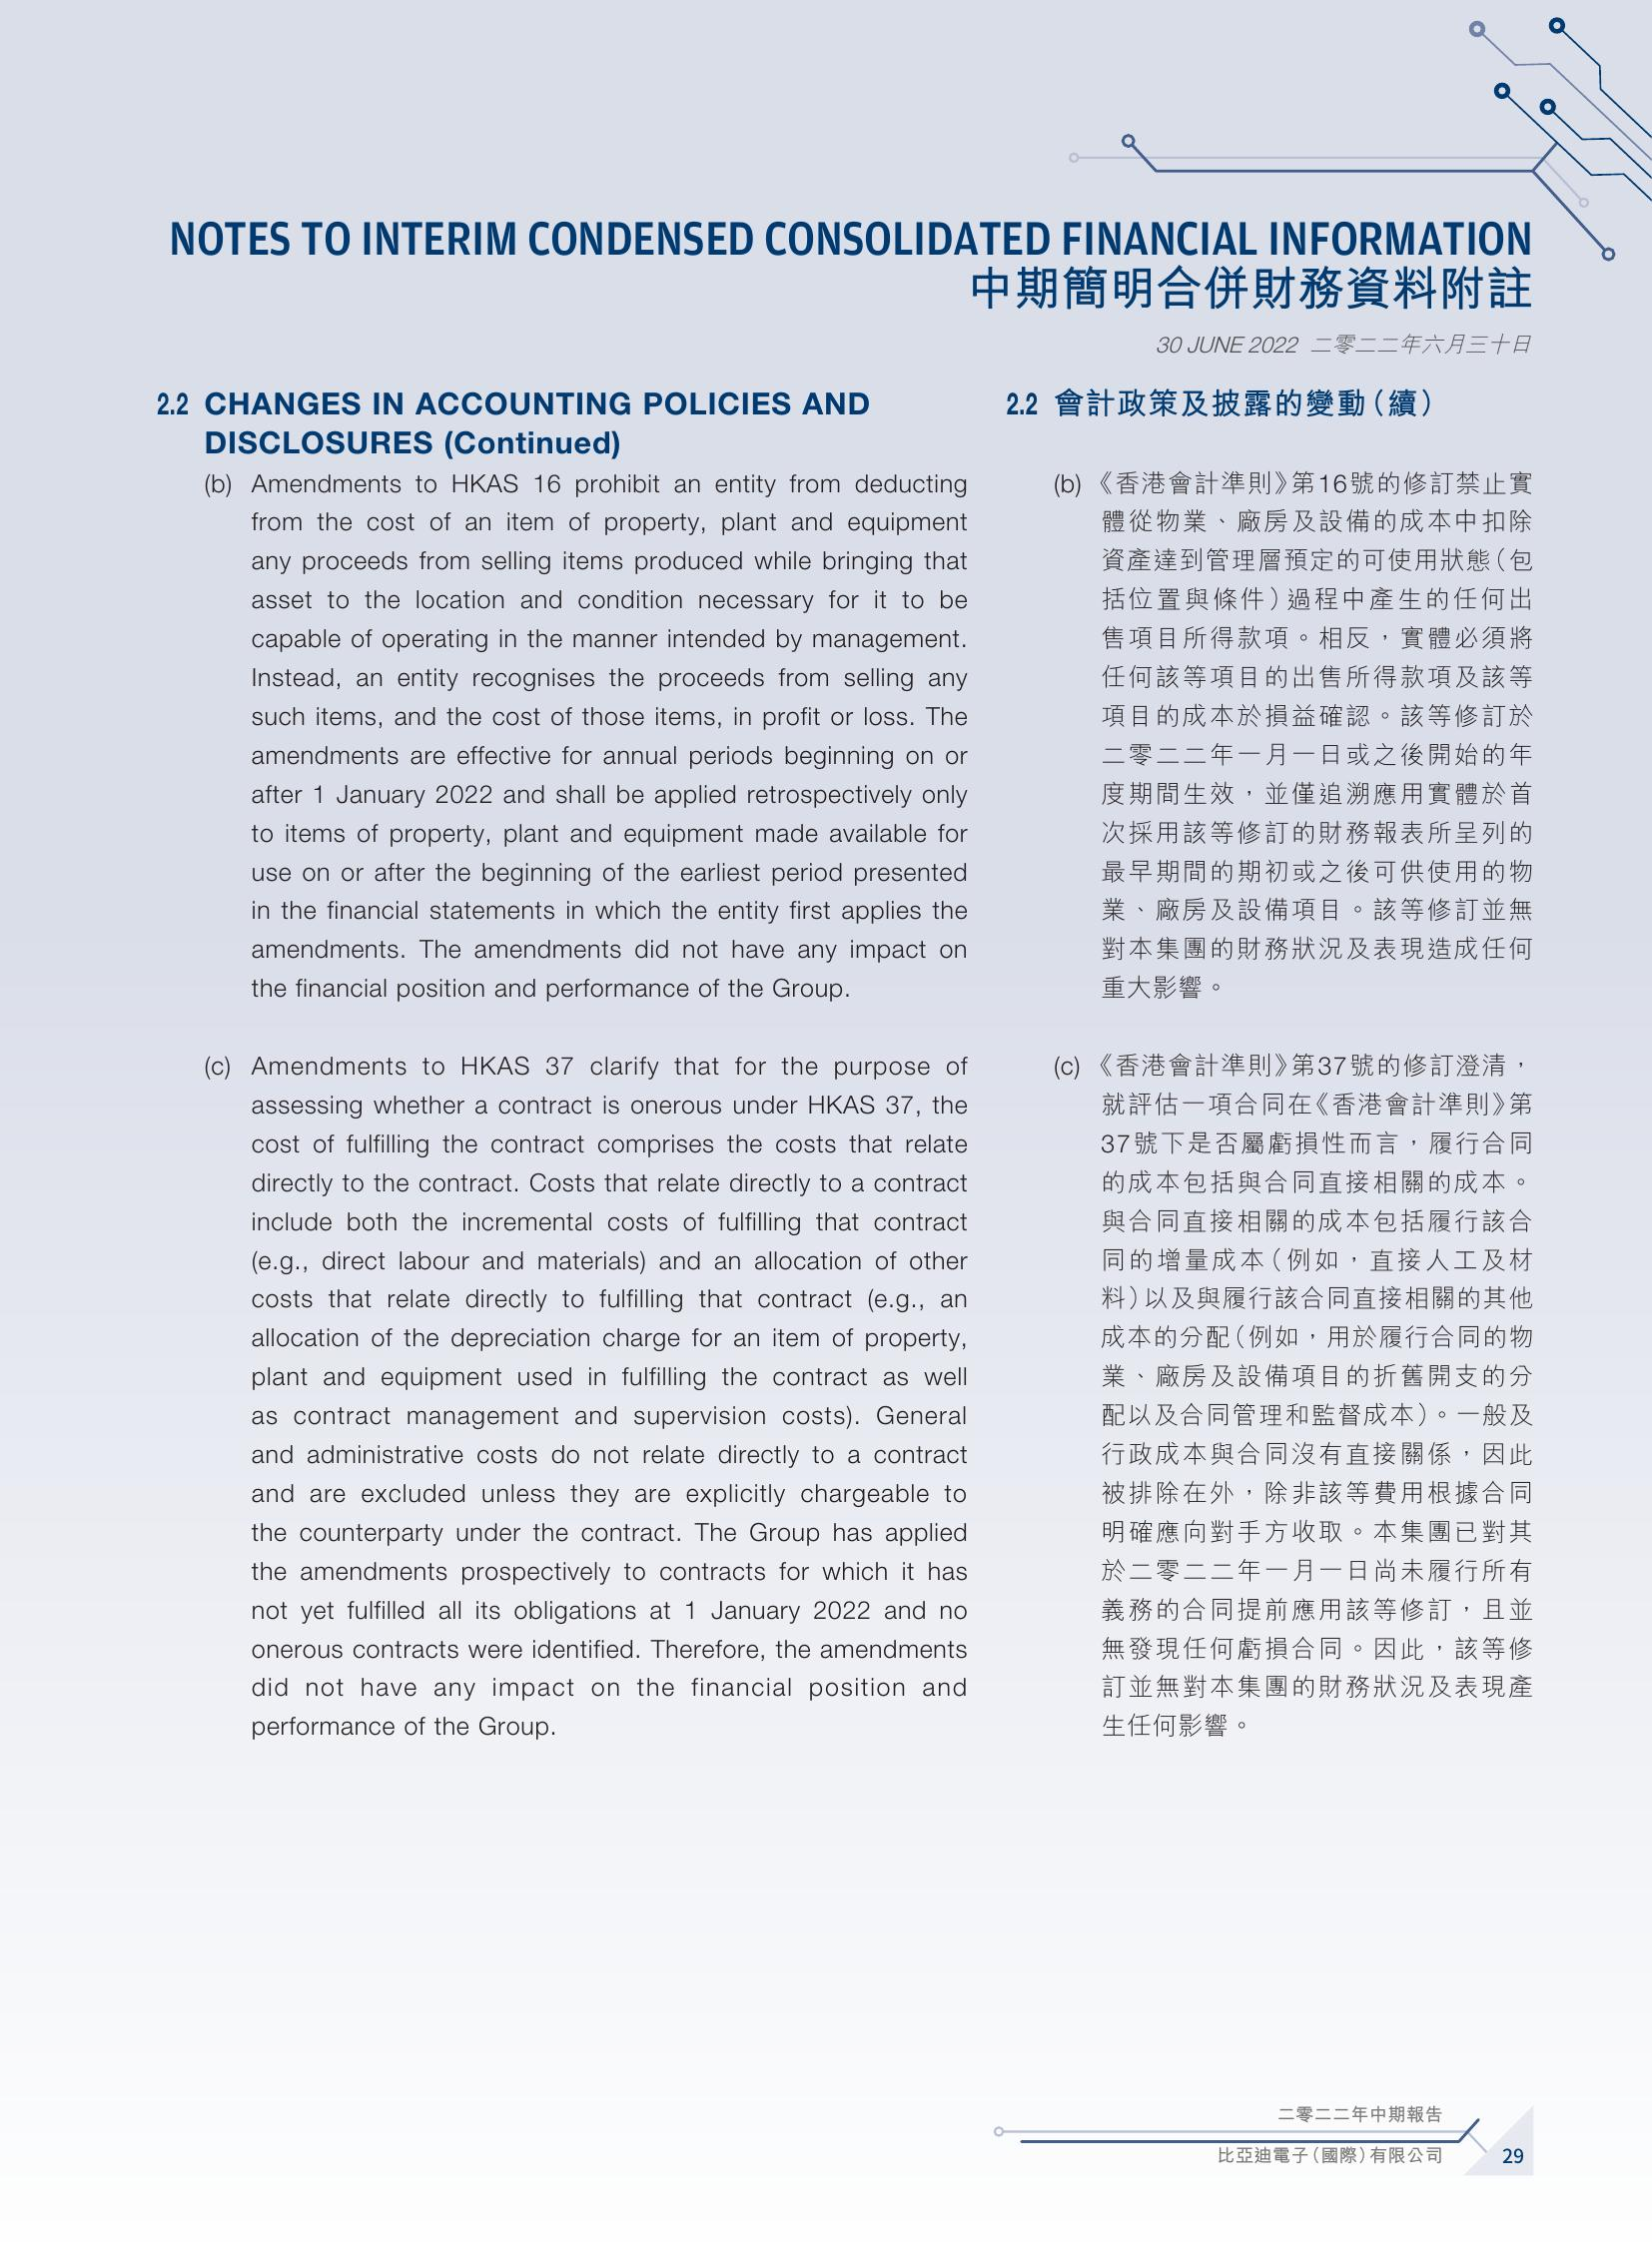Footer: (0, 2103, 1652, 2242)
Header: (0, 0, 1652, 200)
